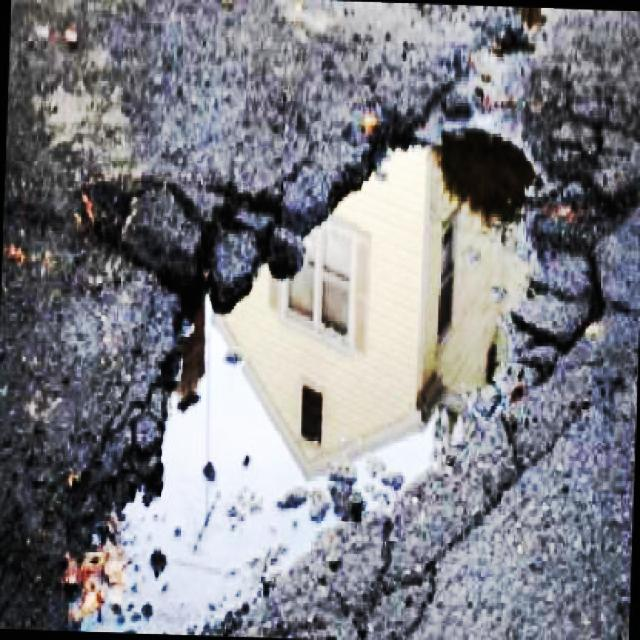pothole: (12, 40, 640, 635)
